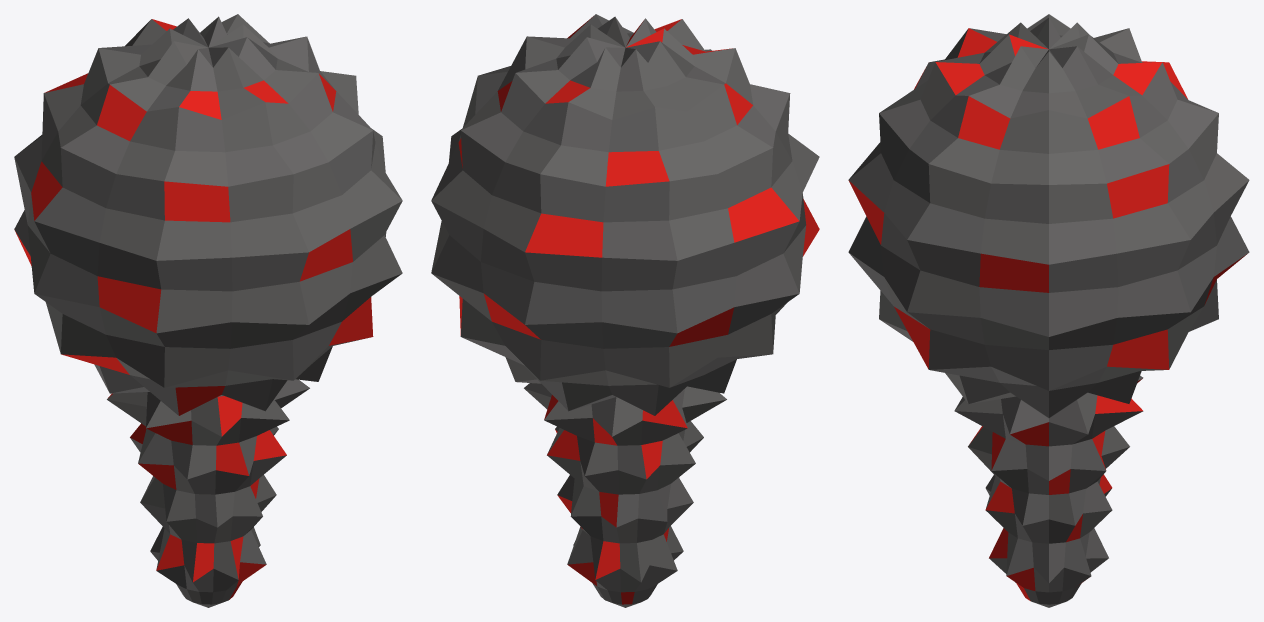
The model's file is Hammer.fbx.
3 renders of one model, left to right at view 1: azimuth 30°, elevation 25°; view 2: azimuth 150°, elevation 25°; view 3: azimuth 270°, elevation 25°, orthographic.
Parts seen in each view (by area): view 1: Sphere; view 2: Sphere; view 3: Sphere.
Part boxes in pixels (left/top/right/bottom): Sphere: left=14, top=14, right=402, bottom=607; Sphere: left=431, top=14, right=819, bottom=607; Sphere: left=848, top=14, right=1249, bottom=607.
Bounding box in the file's own units: 221 × 348 × 221.
